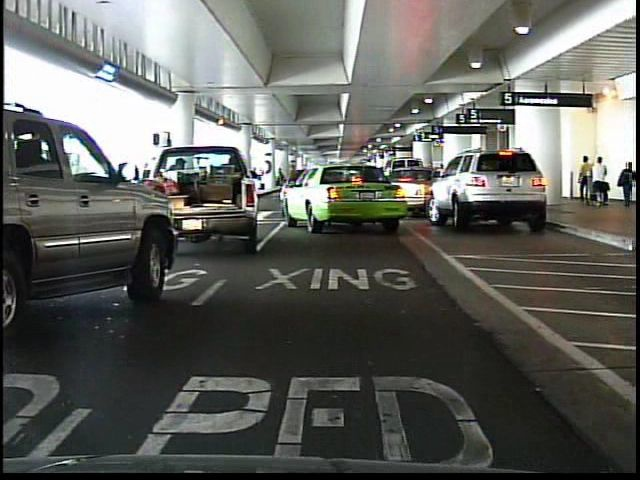person: (592, 153, 611, 209), (617, 159, 636, 210), (576, 155, 592, 205)
